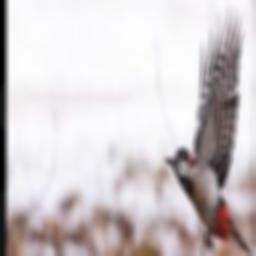Woodpecker: (165, 1, 252, 256)
